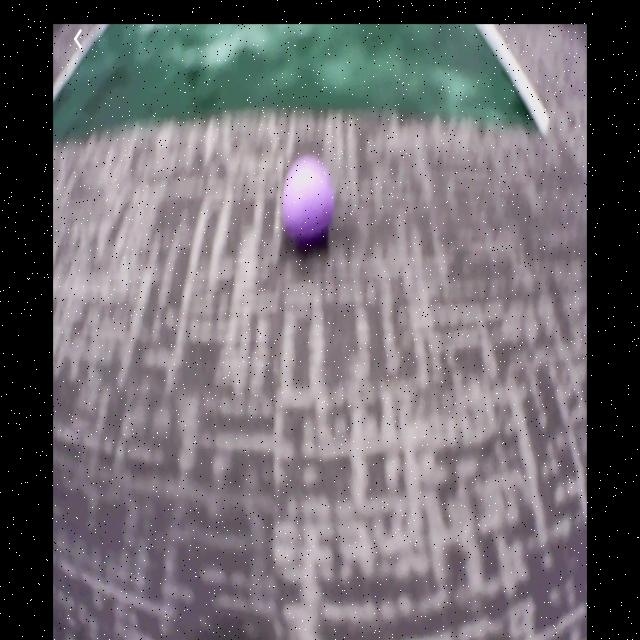ball: (284, 161, 334, 237)
